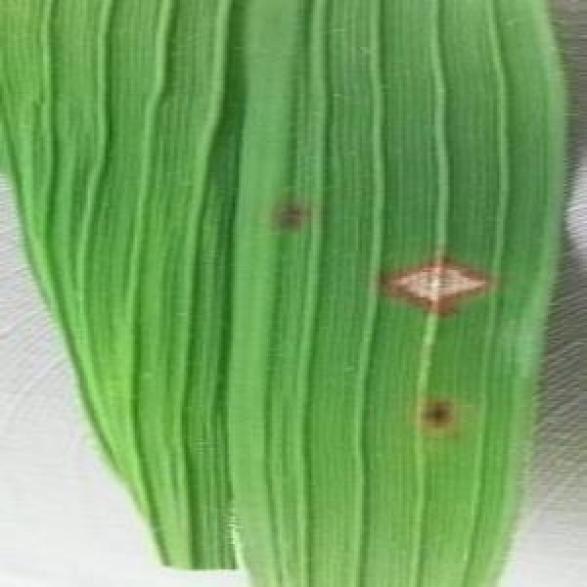Leaf_smut: (372, 208, 509, 337)
